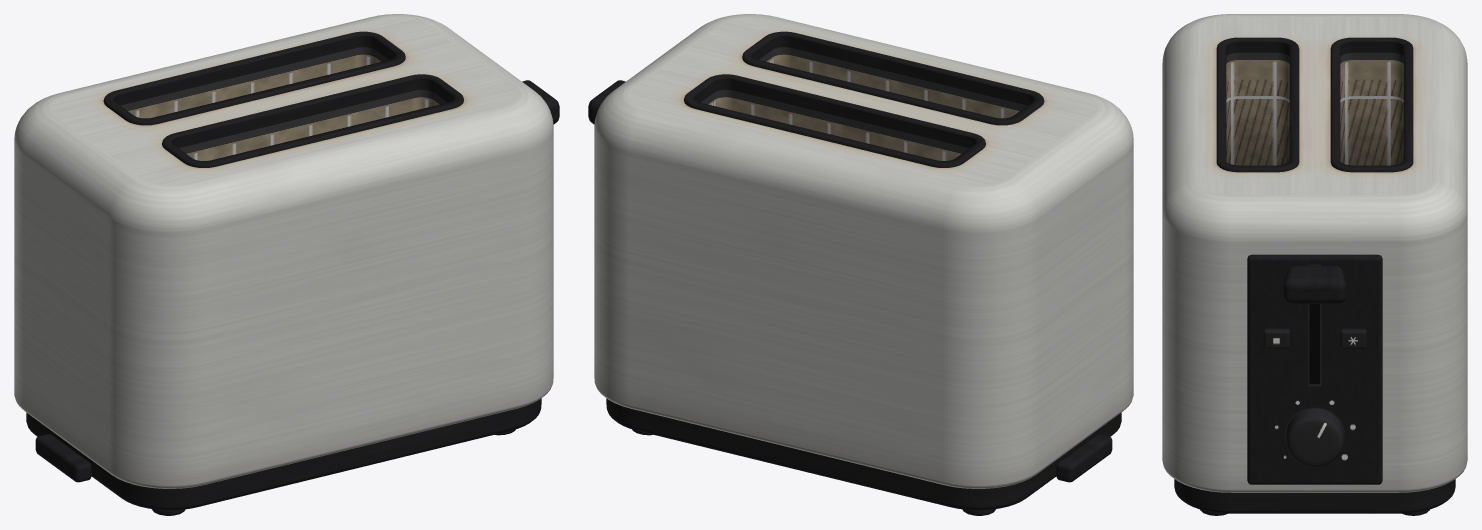
3 views of the same model, side by side, from view 1: azimuth 30°, elevation 25°; view 2: azimuth 150°, elevation 25°; view 3: azimuth 270°, elevation 25° (orthographic). The views are drawn at different scales.
Visible parts, largest first — view 1: Toaster; view 2: Toaster; view 3: Toaster.
Part boxes in pixels (bbox=[...]): Toaster: bbox=[14, 14, 559, 515]; Toaster: bbox=[588, 14, 1133, 515]; Toaster: bbox=[1162, 14, 1467, 515].
Bounding box in the file's own units: 0.2823 × 0.1839 × 0.155.
Materials: 2 (2 with a texture image).
